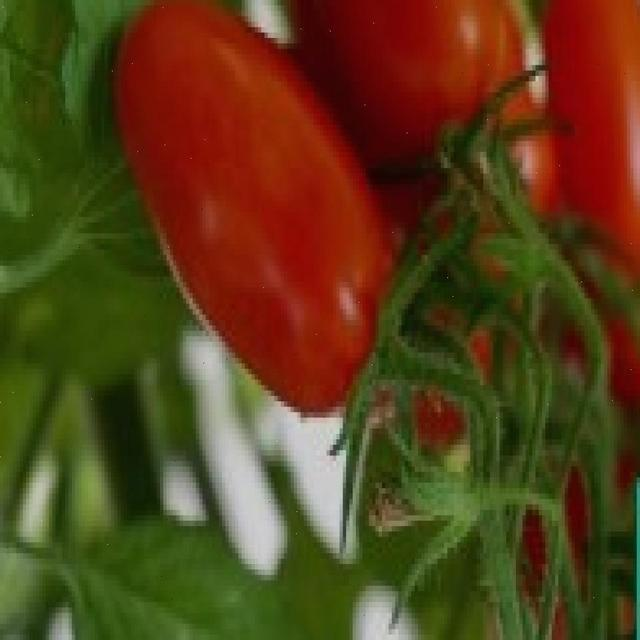Healthy Fruit: (87, 2, 260, 273)
